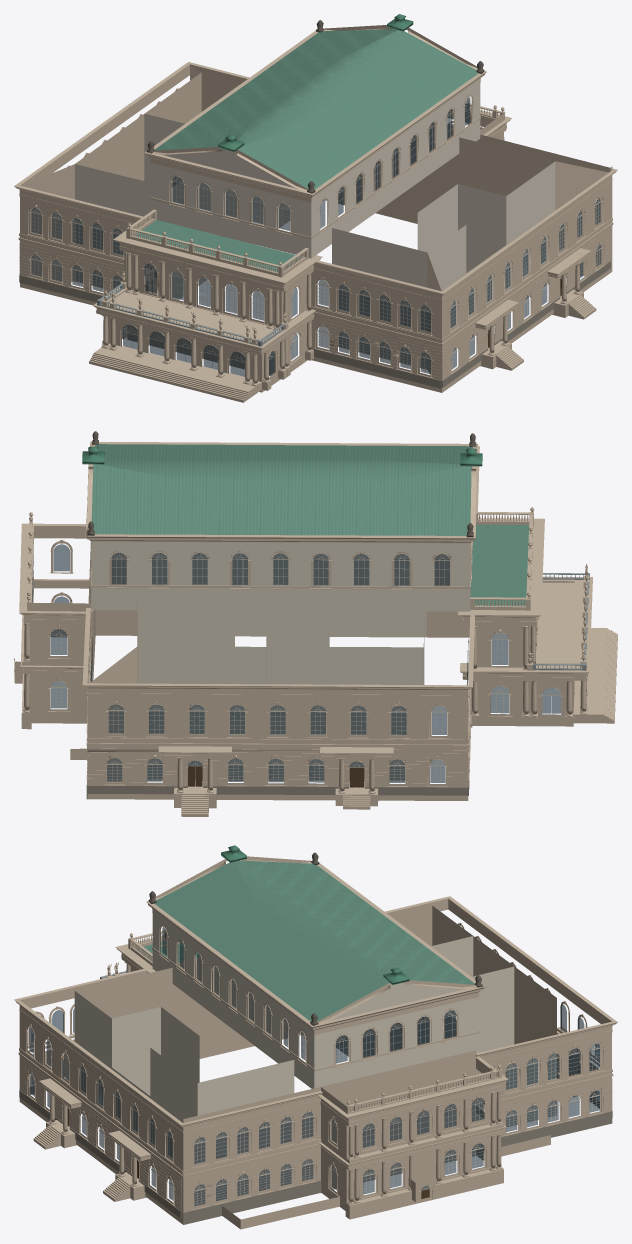
The model's file is landmark_opernhaus.glb.
3 renders of one model, top to bottom at view 1: azimuth 30°, elevation 25°; view 2: azimuth 150°, elevation 25°; view 3: azimuth 270°, elevation 25°, orthographic. The views are drawn at different scales.
Parts seen in each view (by area): view 1: landmark_opernhaus__Landmark plaster, landmark_opernhaus__Landmark sandstone_dark, landmark_opernhaus__Roof Copper R2 v4 relief, landmark_opernhaus__Landmark glass_lead, landmark_opernhaus__Landmark lead, landmark_opernhaus__Landmark copper; view 2: landmark_opernhaus__Landmark plaster, landmark_opernhaus__Roof Copper R2 v4 relief, landmark_opernhaus__Landmark sandstone_dark, landmark_opernhaus__Landmark glass_lead, landmark_opernhaus__Landmark lead, landmark_opernhaus__Landmark copper; view 3: landmark_opernhaus__Landmark plaster, landmark_opernhaus__Landmark sandstone_dark, landmark_opernhaus__Roof Copper R2 v4 relief, landmark_opernhaus__Landmark glass_lead, landmark_opernhaus__Landmark copper.
Boxes of the visible parts, x1,y1,x2,y2 form: landmark_opernhaus__Landmark plaster: (18, 25, 613, 402); landmark_opernhaus__Landmark sandstone_dark: (14, 20, 617, 386); landmark_opernhaus__Roof Copper R2 v4 relief: (134, 29, 478, 271); landmark_opernhaus__Landmark glass_lead: (31, 97, 601, 376); landmark_opernhaus__Landmark lead: (97, 283, 284, 346); landmark_opernhaus__Landmark copper: (218, 14, 413, 151); landmark_opernhaus__Landmark plaster: (14, 442, 617, 816); landmark_opernhaus__Roof Copper R2 v4 relief: (91, 444, 533, 605); landmark_opernhaus__Landmark sandstone_dark: (19, 431, 592, 794); landmark_opernhaus__Landmark glass_lead: (32, 544, 561, 782); landmark_opernhaus__Landmark lead: (532, 573, 589, 670); landmark_opernhaus__Landmark copper: (82, 446, 482, 466); landmark_opernhaus__Landmark plaster: (18, 856, 613, 1229); landmark_opernhaus__Landmark sandstone_dark: (14, 852, 617, 1205); landmark_opernhaus__Roof Copper R2 v4 relief: (139, 860, 474, 1021); landmark_opernhaus__Landmark glass_lead: (29, 927, 599, 1205); landmark_opernhaus__Landmark copper: (221, 845, 409, 984).
Size of the model in its own units: 96.22 by 38.63 by 101.
6 materials, 6 textured.
